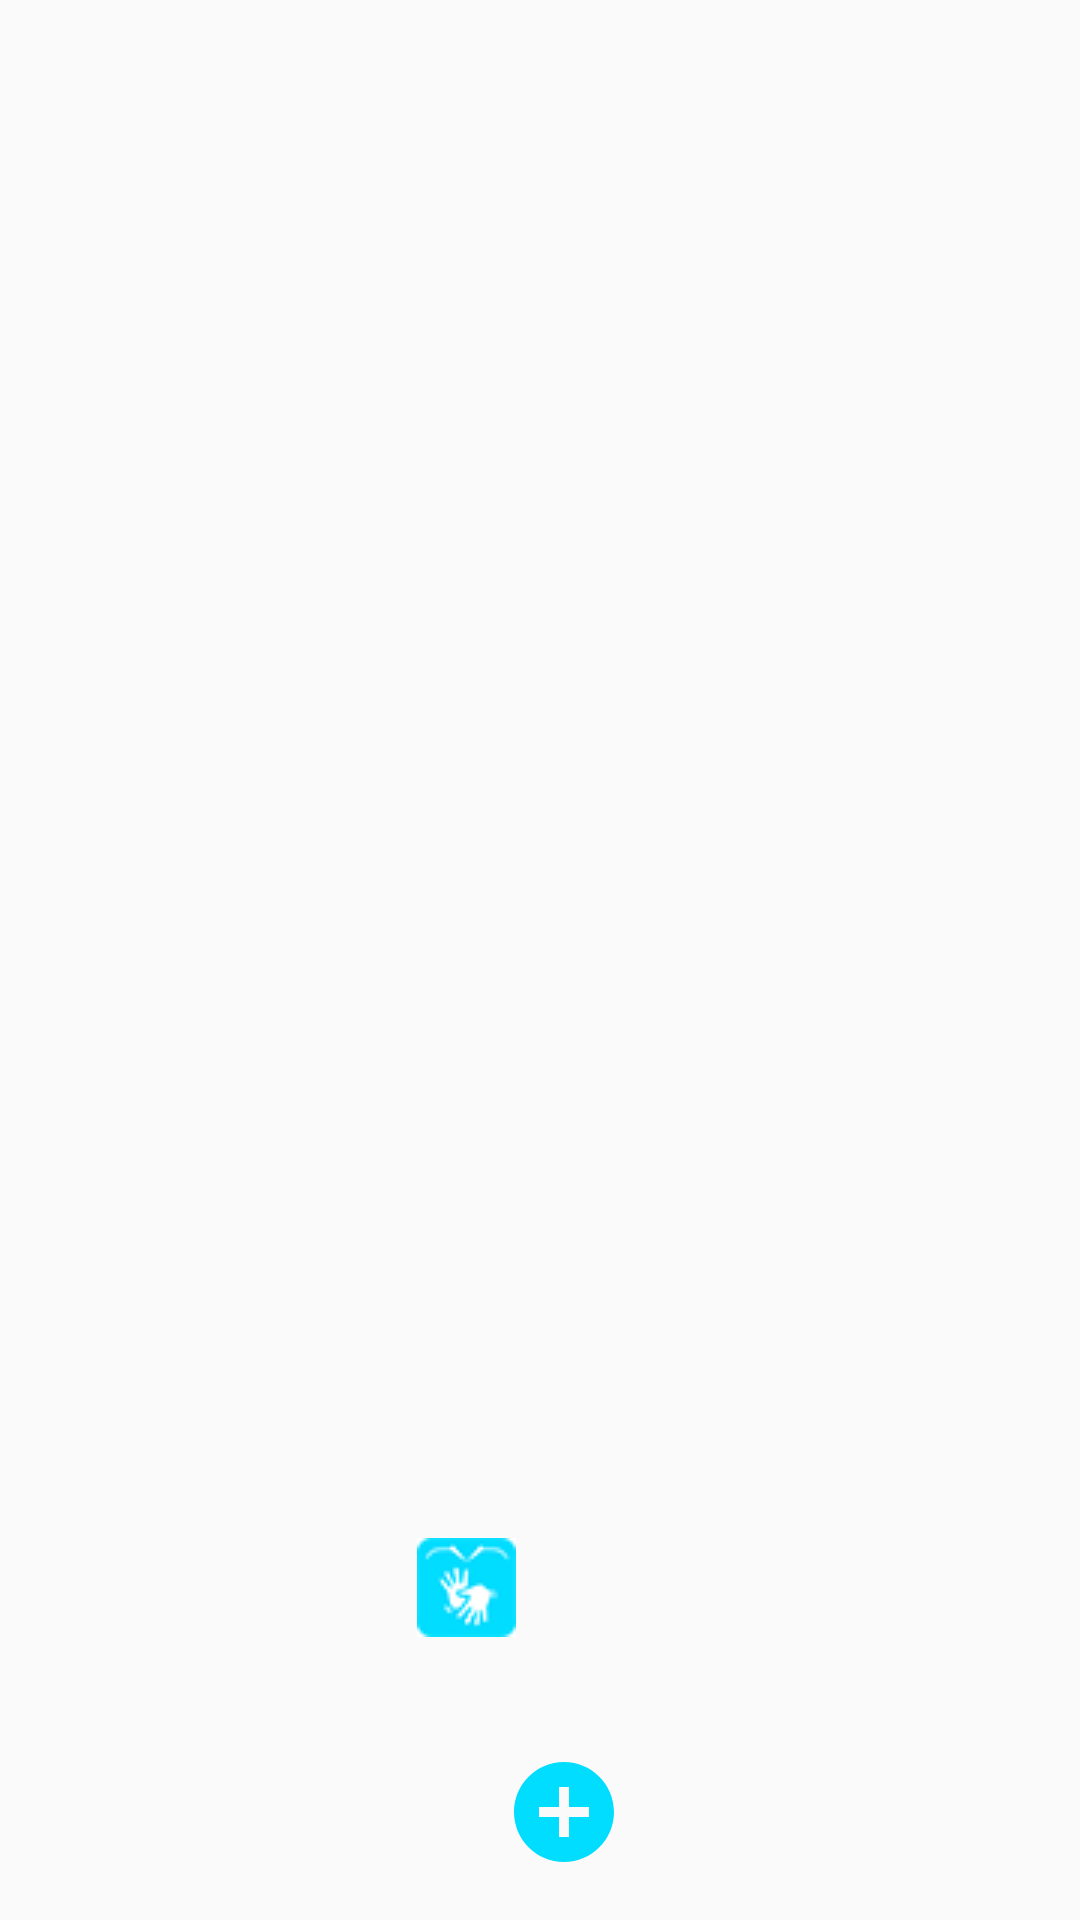

Point at icon controls on the screen. Image size 1080px x 1920px, points as point (x, y).
add: point (564, 1812)
